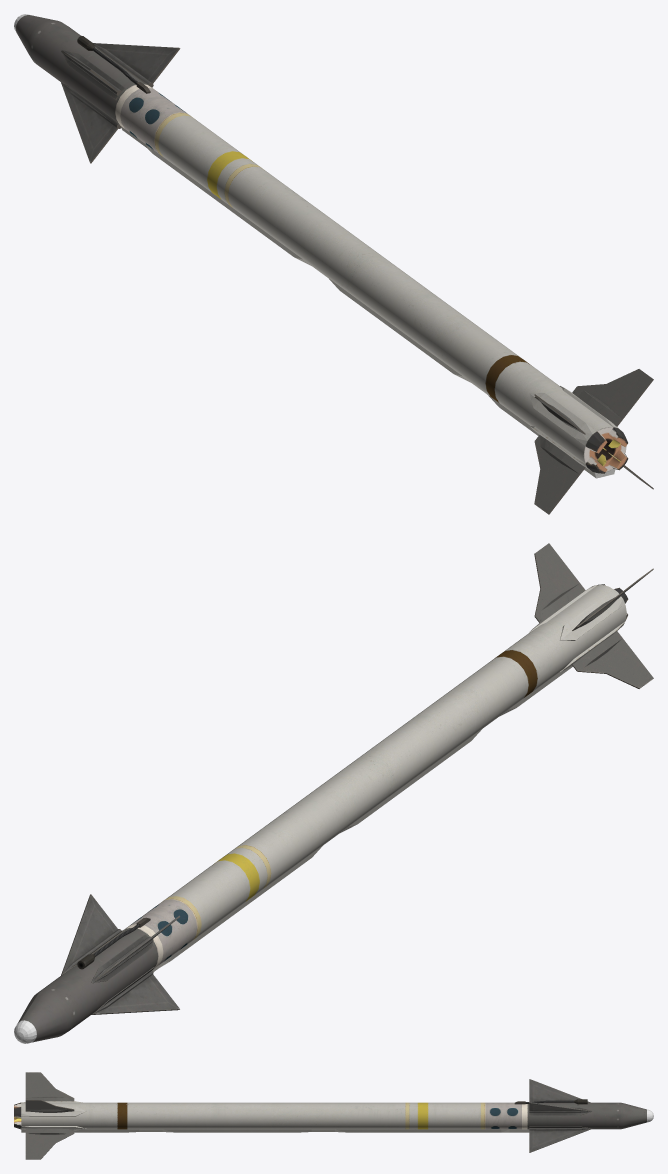
File: aim-9x.glb
3 views of the same model, one above another, from view 1: azimuth 30°, elevation 25°; view 2: azimuth 150°, elevation 25°; view 3: azimuth 270°, elevation 25° (orthographic). The views are drawn at different scales.
Parts seen in each view (by area): view 1: us_aim-9x; view 2: us_aim-9x; view 3: us_aim-9x.
Part boxes in pixels (x1,y1,x2,y2): us_aim-9x: (16,15,653,514); us_aim-9x: (17,543,653,1042); us_aim-9x: (14,1072,646,1159).
Size of the model in its own units: 0.31 by 0.31 by 3.01.
Materials: 2 (1 with a texture image).
